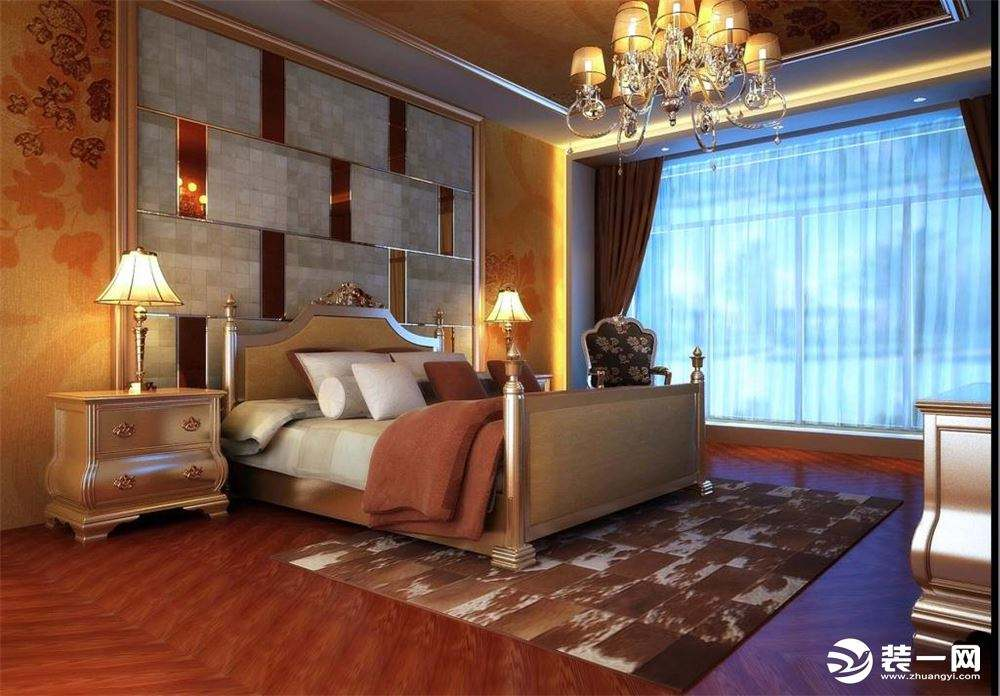床: (224, 384, 694, 546)
枕头: (291, 349, 482, 419)
灯: (558, 5, 802, 147), (95, 244, 176, 399), (487, 282, 536, 385)
